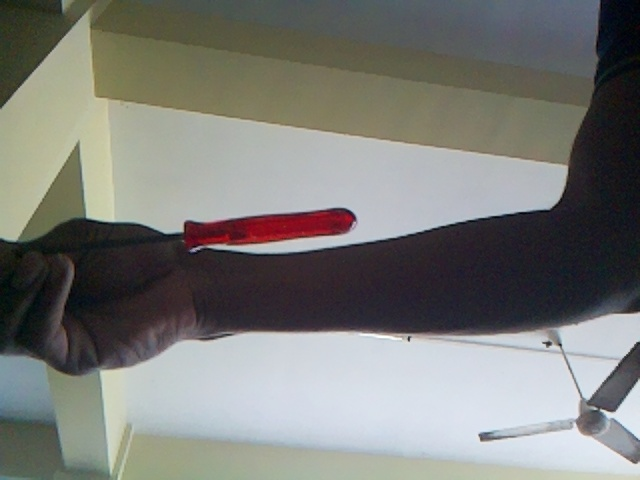redskrew: (127, 205, 361, 250)
